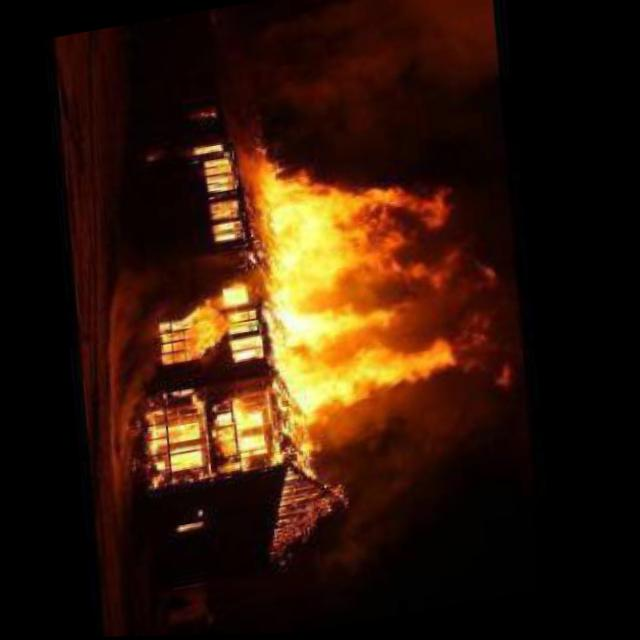Fire: (244, 134, 503, 463), (136, 283, 290, 485), (193, 139, 257, 244)
